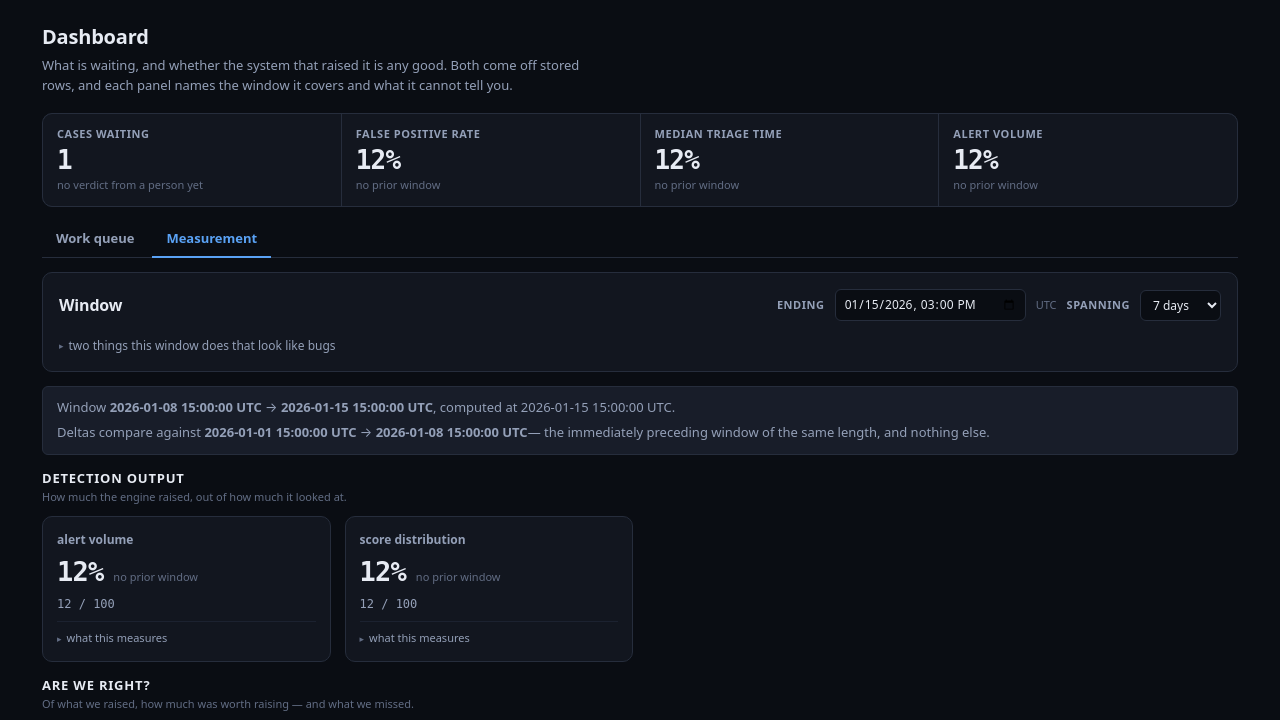
it: the sub-tab is a route, and the shell survives it › keeps the chosen window when you visit the queue and come back
Select "30 days" in the dropdown labelled "spanning" at (1180, 305), box [1140,290,1221,321]
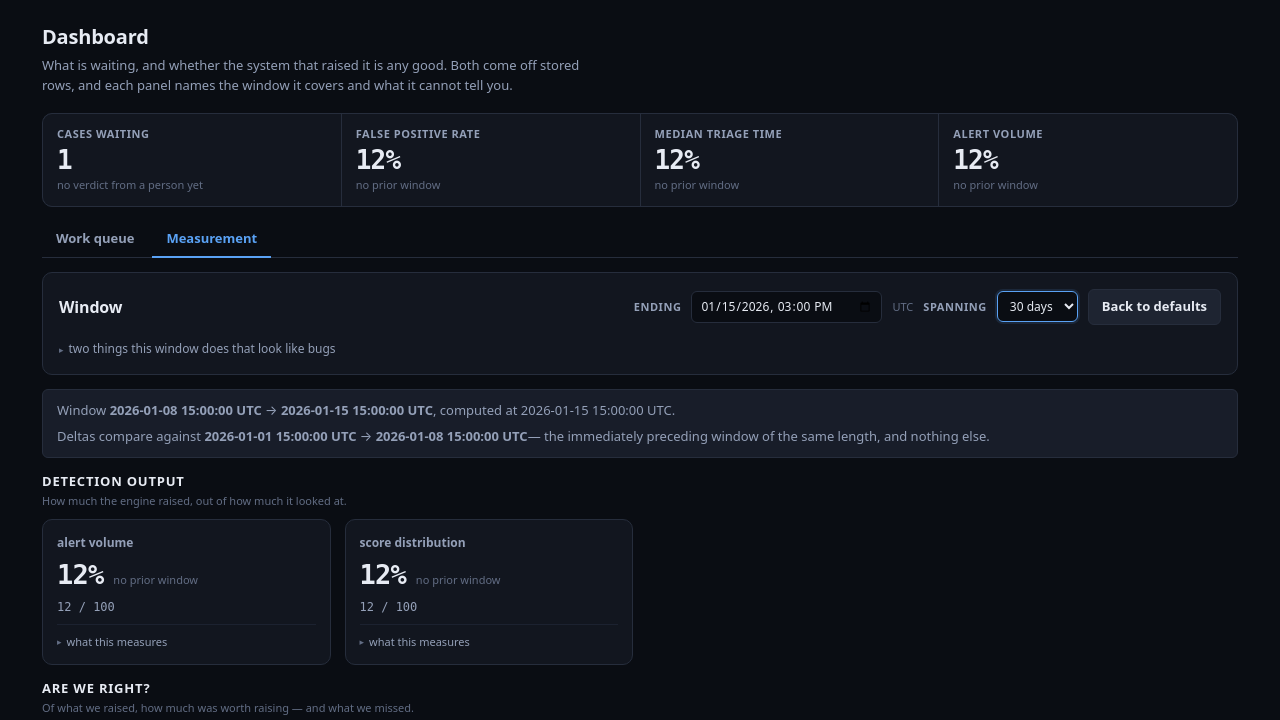
Click the link "Work queue".
click(95, 238)  # box [56,229,134,247]
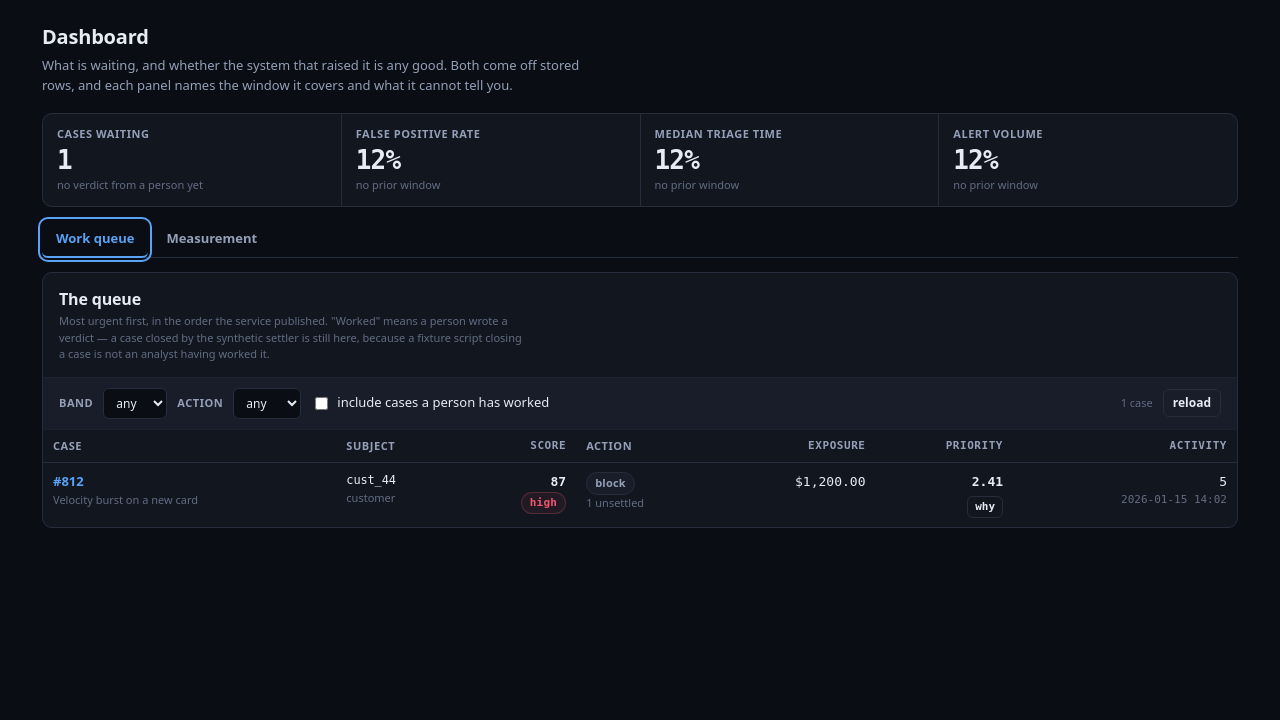
expect the text "#812" is shown: met, box [53,472,84,490]
Click the link "Measurement".
click(212, 238)  # box [166,229,257,247]
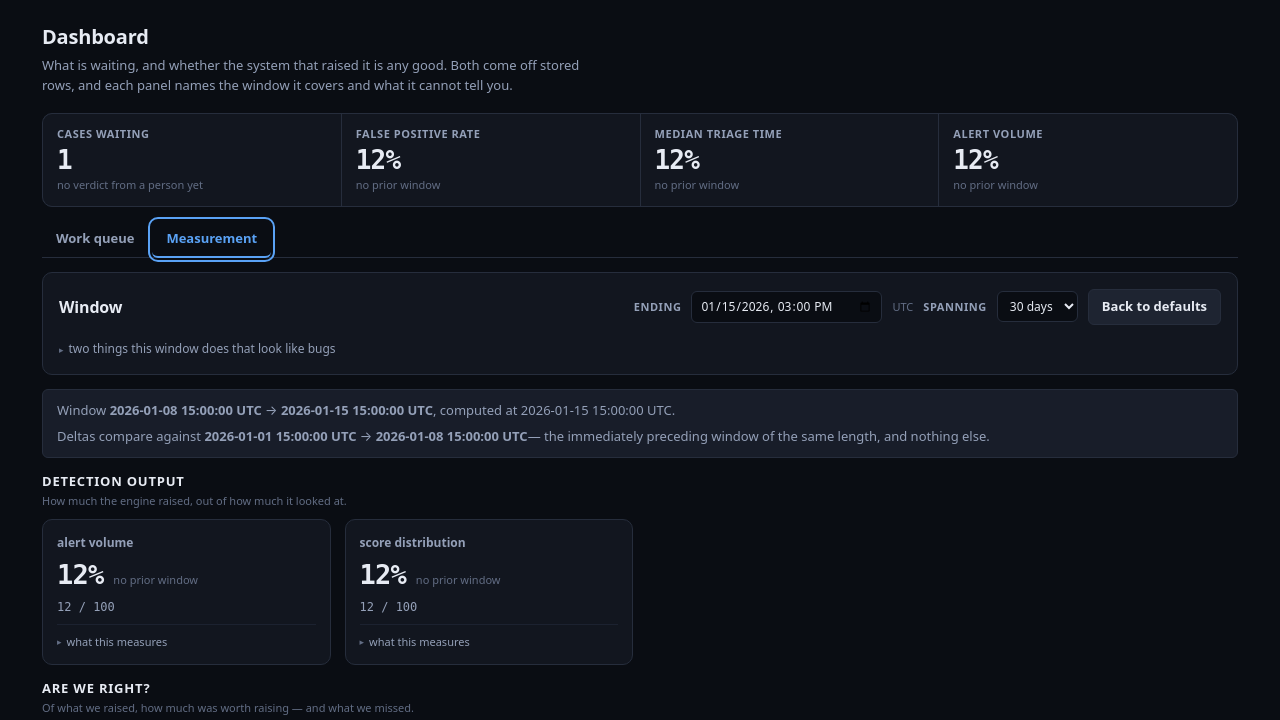
expect the dropdown labelled "spanning" shows "30 days": met, box [997,291,1078,322]
